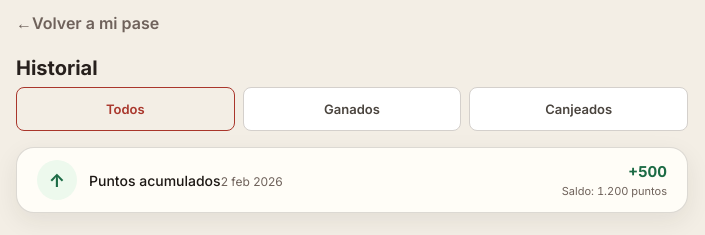
Scenario: history, filters › ignores a slow answer to a filter the customer has already moved off
Expected: the list named "Tus movimientos de puntos" is shown, top-left (16, 147), bottom-right (688, 213)
Click the button "Ganados". click: (352, 109)
box: top-left (243, 87), bottom-right (461, 131)
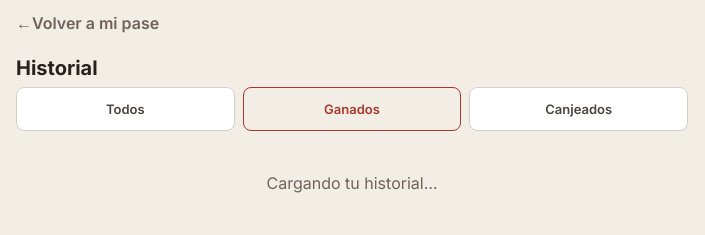
Click the button "Canjeados". click: (579, 109)
box: top-left (469, 87), bottom-right (688, 131)
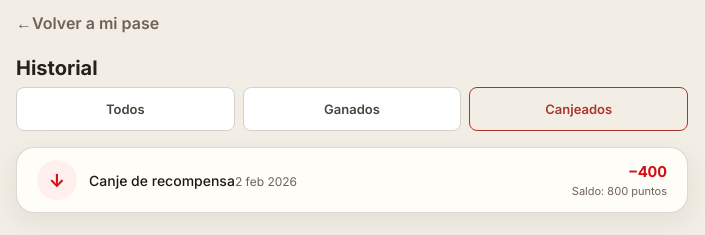
Result: the text "−400" is shown at top-left (628, 160), bottom-right (667, 183)
